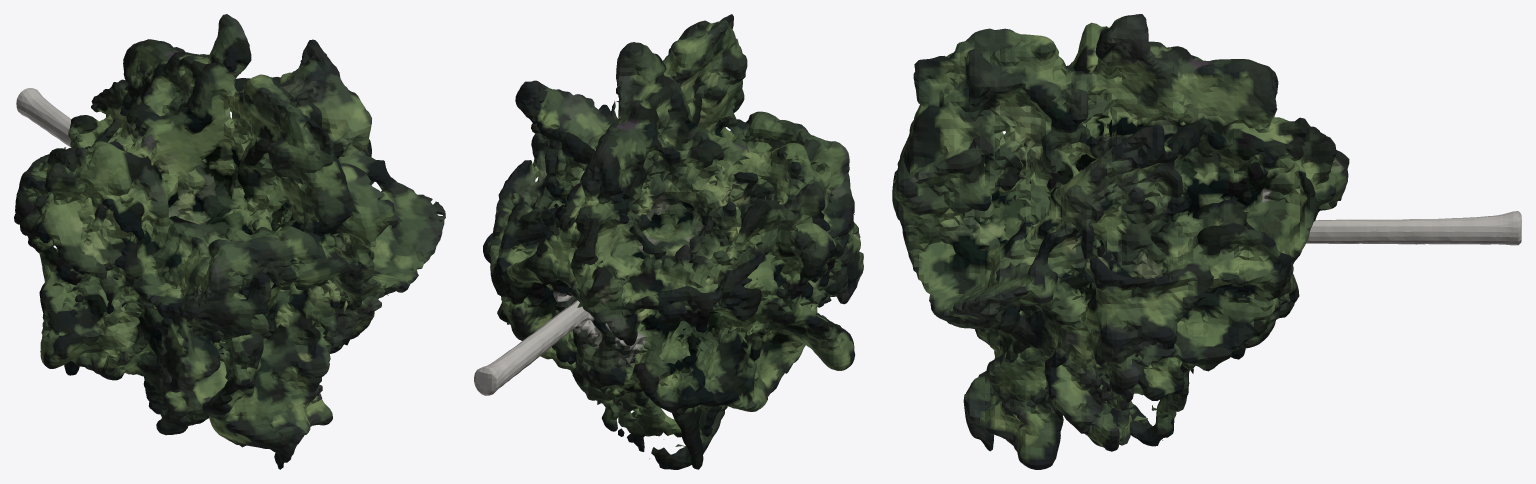
The model's file is tree.glb.
The picture shows the model from 3 angles, left to right: view 1: azimuth 30°, elevation 25°; view 2: azimuth 150°, elevation 25°; view 3: azimuth 270°, elevation 25°; orthographic projection. The views are drawn at different scales.
Parts seen in each view (by area): view 1: world; view 2: world; view 3: world.
Boxes of the visible parts, x1,y1,x2,y2 form: world: (14, 14, 445, 469); world: (474, 14, 863, 469); world: (892, 14, 1521, 469).
Size of the model in its own units: 0.7173 by 0.791 by 0.9952.
